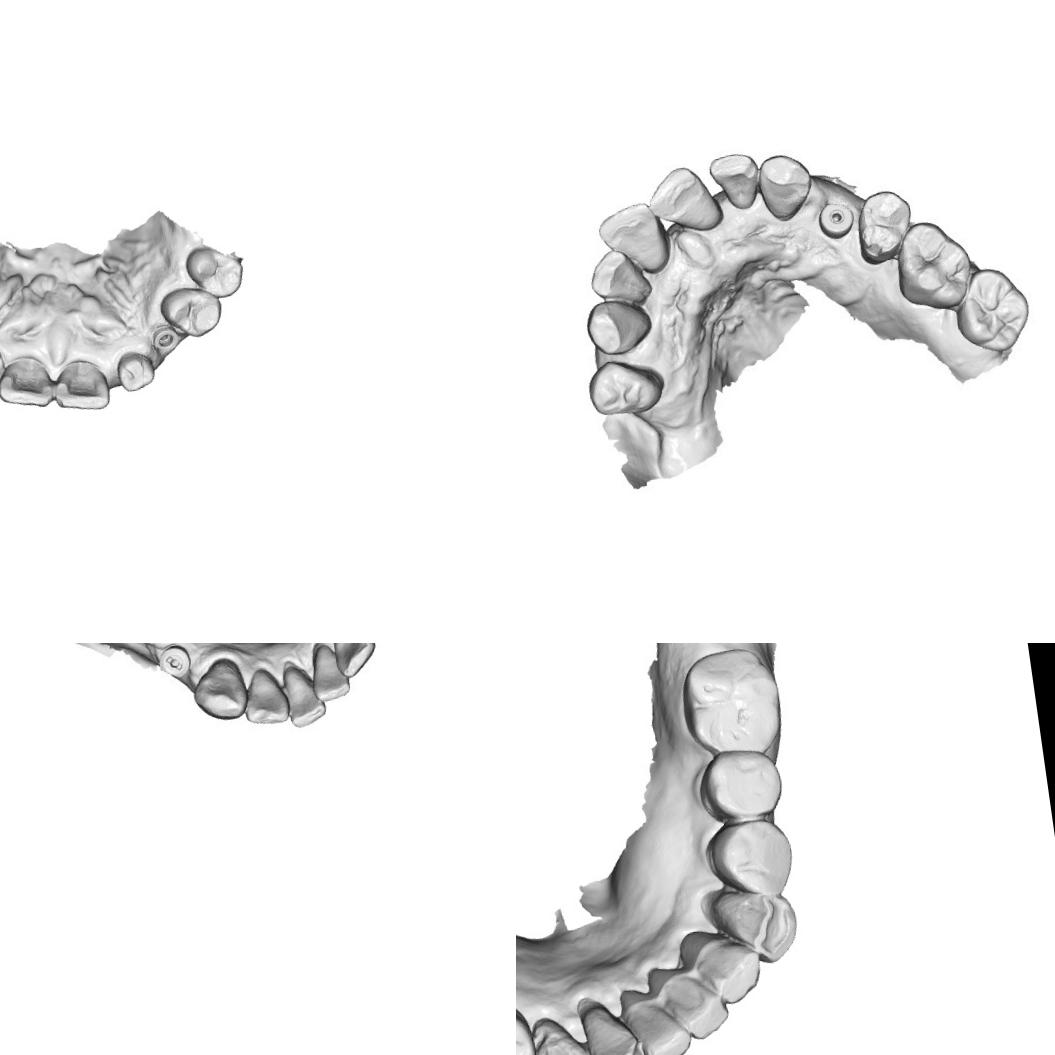canine: (705, 877, 800, 972), (750, 148, 818, 226), (582, 294, 658, 358), (186, 654, 250, 726), (519, 1007, 610, 1055)
implant: (813, 195, 858, 242), (152, 330, 180, 355)
implant_minus: (154, 643, 196, 681)
incisor: (644, 161, 724, 244), (687, 929, 766, 1009), (655, 965, 733, 1046), (596, 200, 668, 277), (618, 988, 694, 1055), (577, 995, 649, 1055), (583, 246, 654, 306), (49, 352, 113, 418), (706, 149, 764, 216), (238, 664, 292, 730), (280, 660, 330, 730), (0, 352, 55, 414), (306, 643, 354, 705), (112, 348, 157, 395), (328, 643, 380, 680)
molar: (674, 643, 788, 761), (887, 214, 978, 316), (948, 262, 1037, 359)
premolar: (705, 815, 799, 900), (697, 746, 789, 827), (582, 352, 674, 426), (849, 184, 920, 270), (182, 239, 250, 306), (156, 282, 226, 343)
